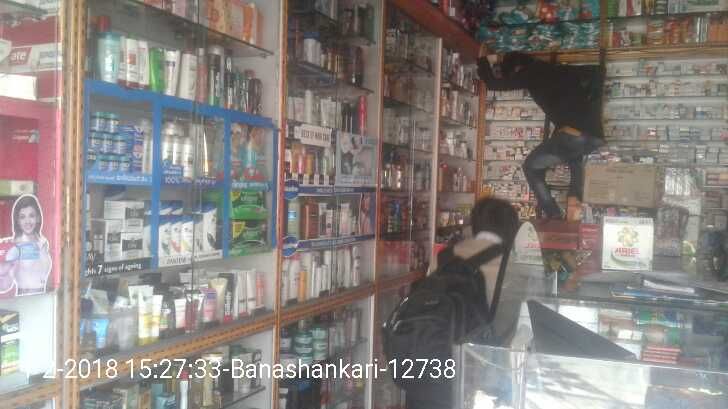beauty: (119, 201, 146, 236), (202, 200, 220, 252), (118, 236, 144, 265), (104, 227, 121, 267), (181, 138, 195, 176), (160, 135, 175, 170), (180, 215, 192, 258), (160, 219, 170, 257)
pharmacy: (243, 128, 268, 180), (229, 187, 267, 216), (233, 219, 267, 248), (82, 132, 128, 152), (91, 111, 118, 133), (132, 147, 144, 173), (135, 121, 146, 144)
